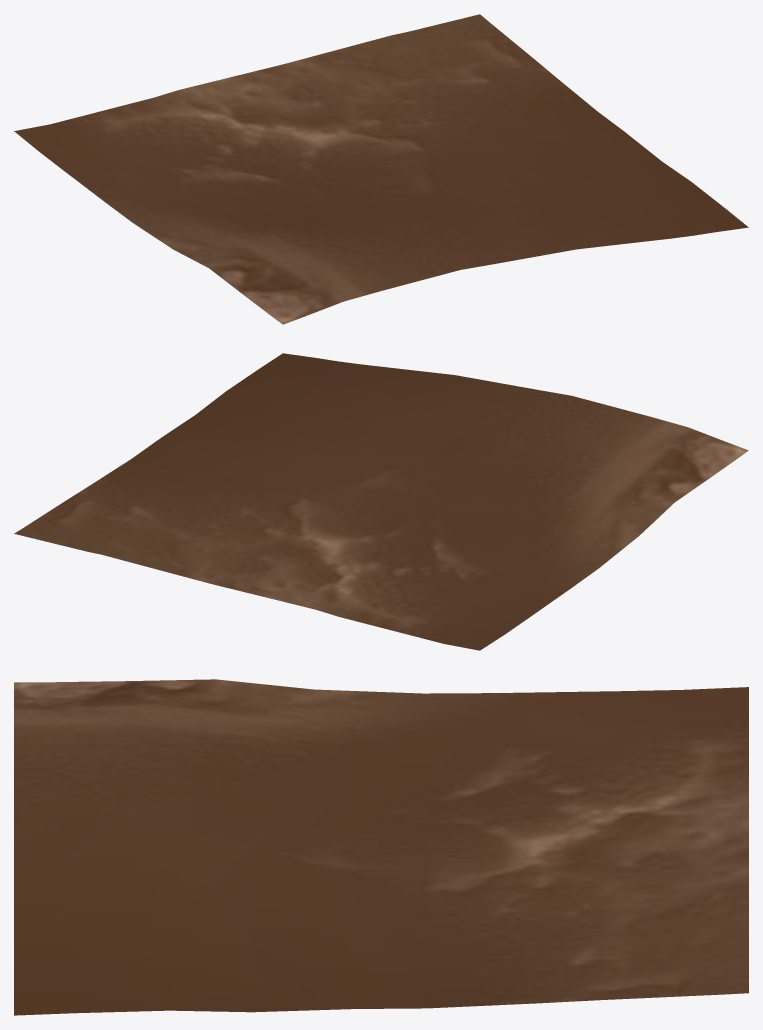
3 views of the same model, one above another, from view 1: azimuth 30°, elevation 25°; view 2: azimuth 150°, elevation 25°; view 3: azimuth 270°, elevation 25° (orthographic). The views are drawn at different scales.
Bounding box in the file's own units: 128 × 7.85 × 128.
Materials: 1 (1 with a texture image).
